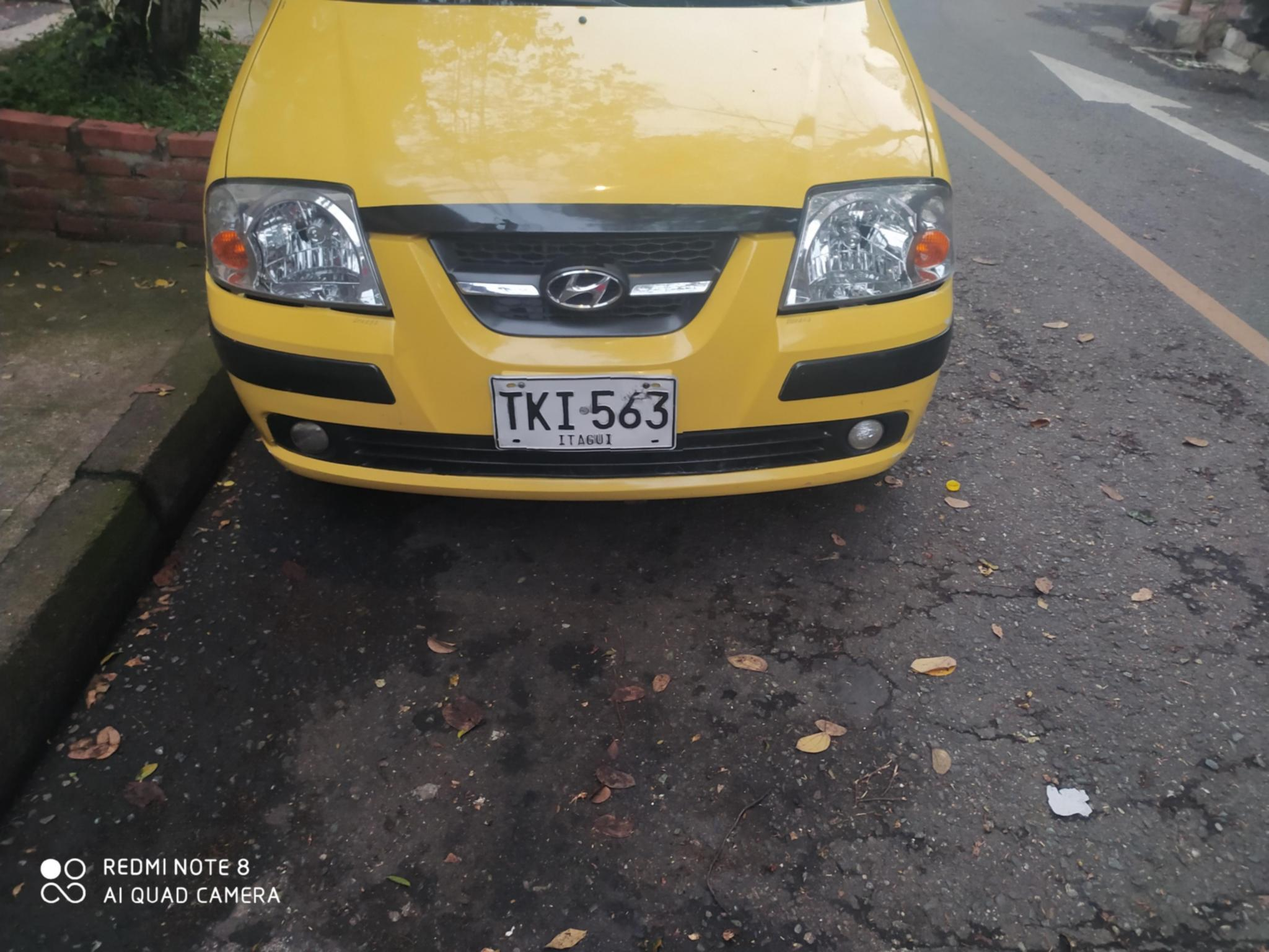placa: (484, 372, 683, 456)
